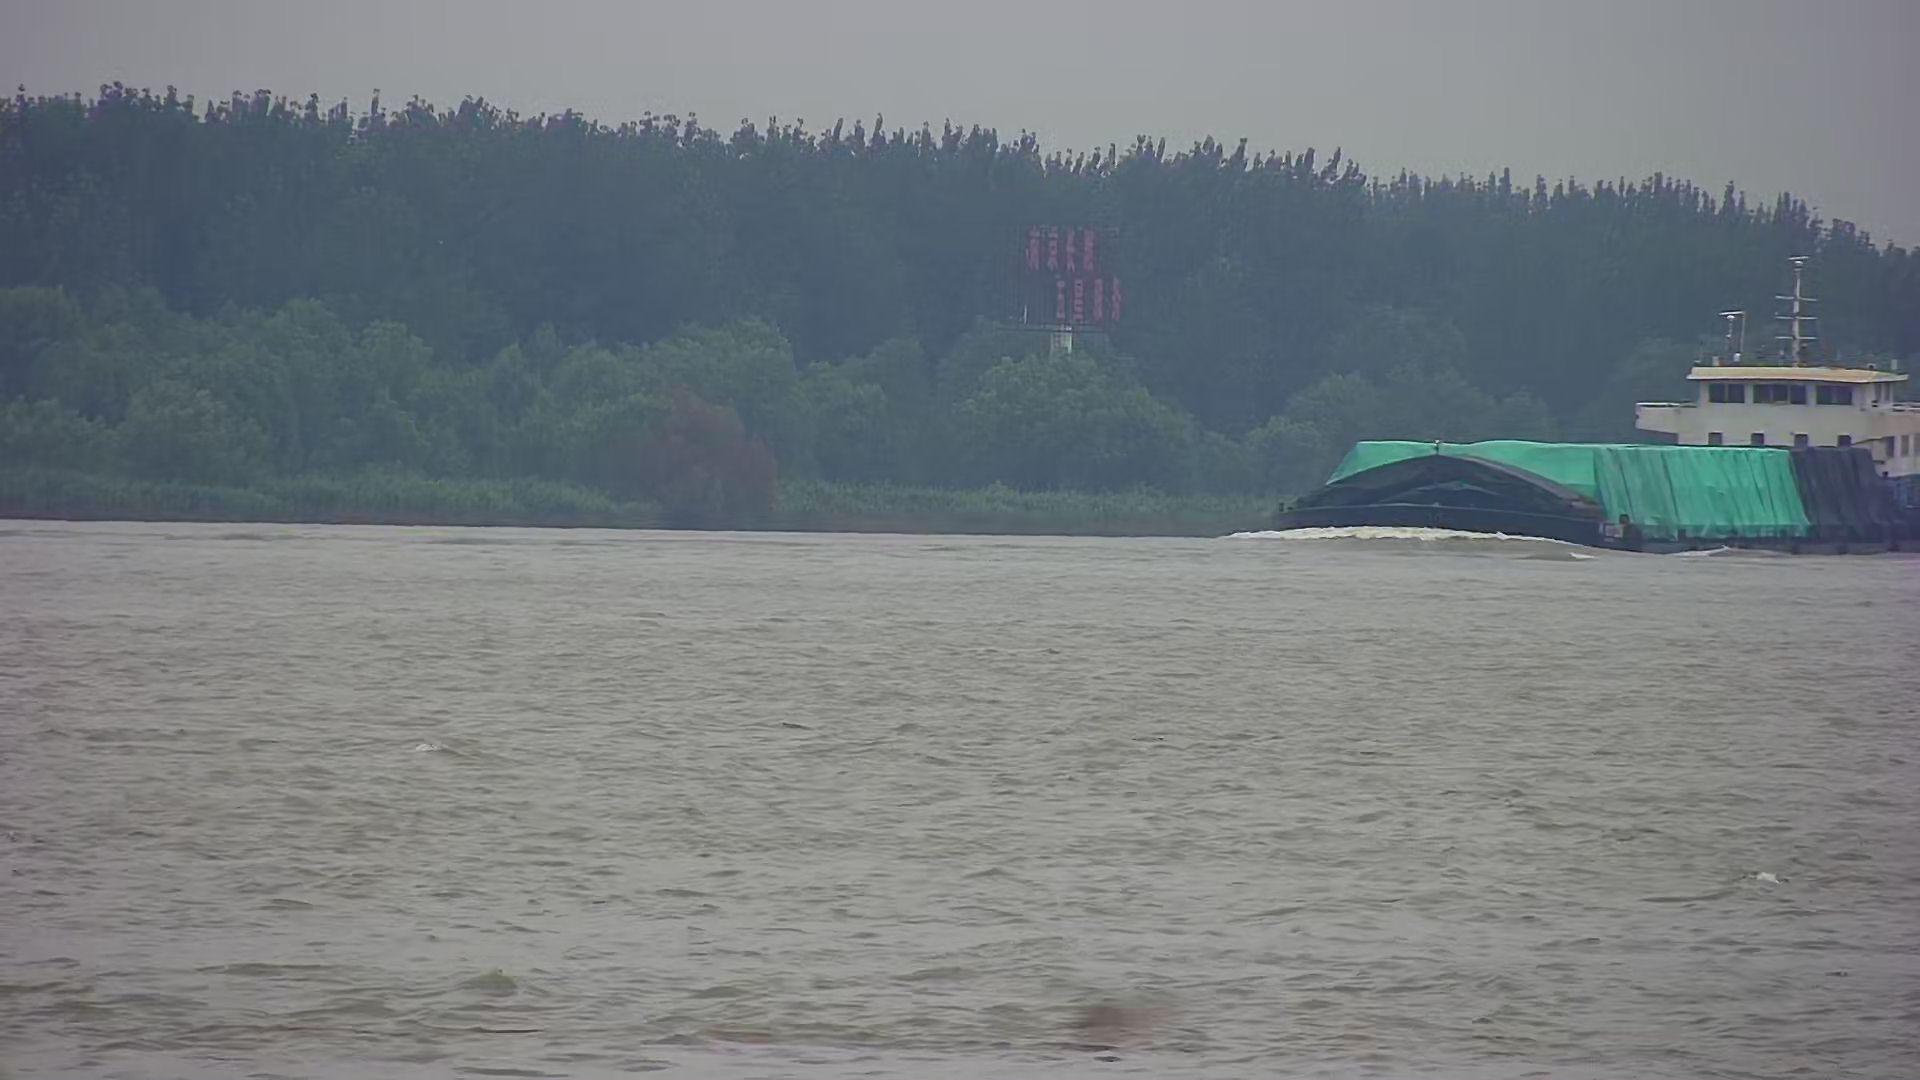ship: (1254, 309, 1920, 564)
